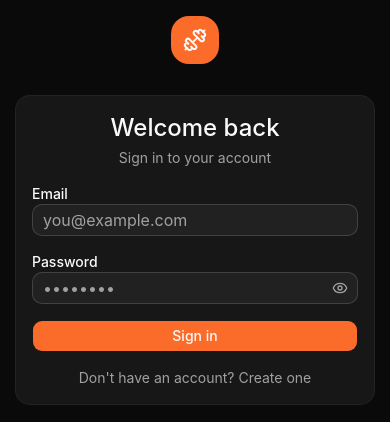
Test case: shows loading spinner while login request is in-flight
Type "a@b.com" into the field labelled "Email" at (195, 220), box [32,204,358,236]
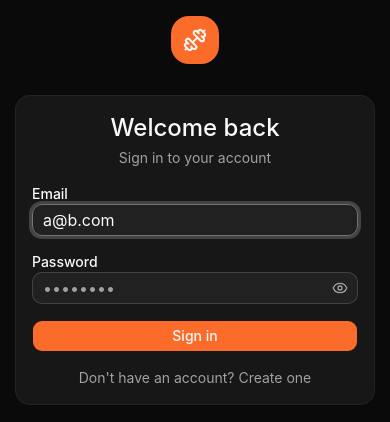
Type "pass" into the password field labelled "Password" at (195, 288), box [32,272,358,304]
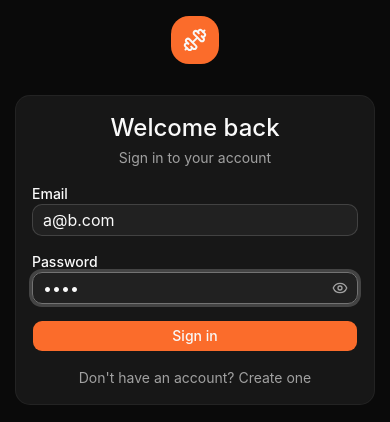
Click the button "Sign in" at (195, 336), box [32,320,358,352]
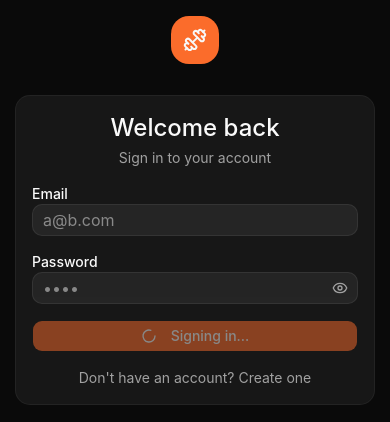
Expected: the button "Signing in…" is disabled, [32,320,358,352]
